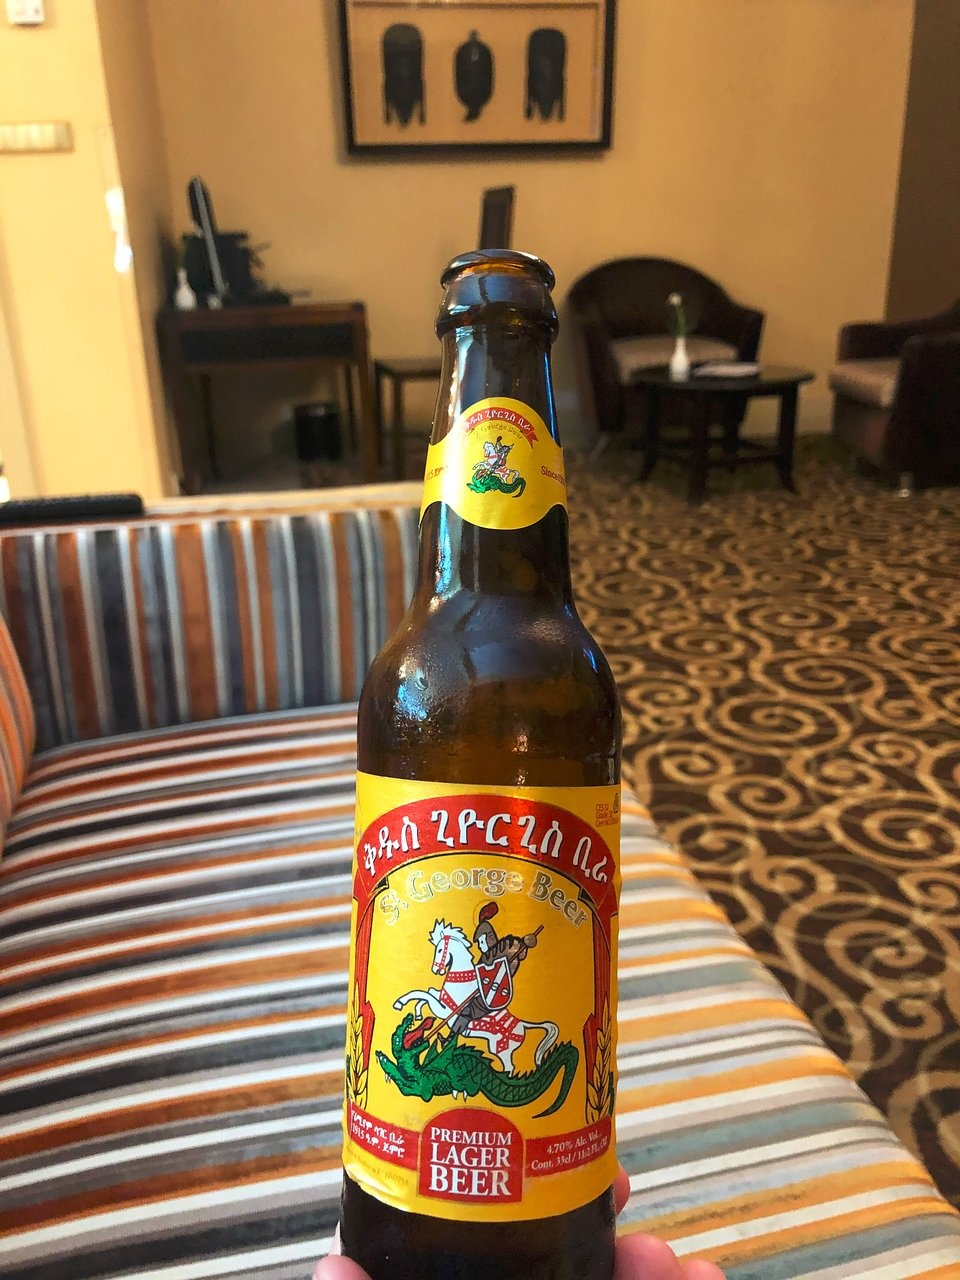beerBottle: (340, 243, 620, 1276)
